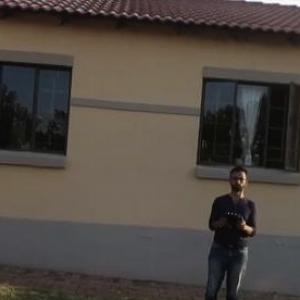follow: (196, 160, 261, 299)
